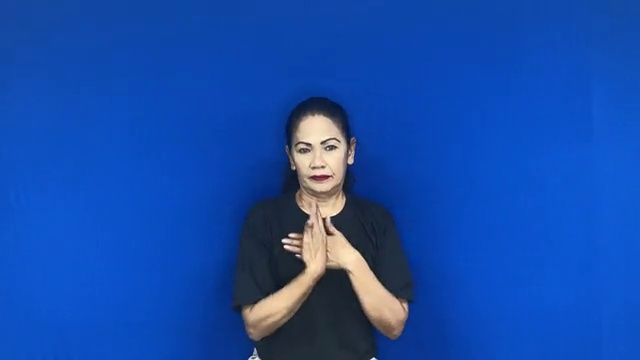bread: (275, 194, 371, 287)
